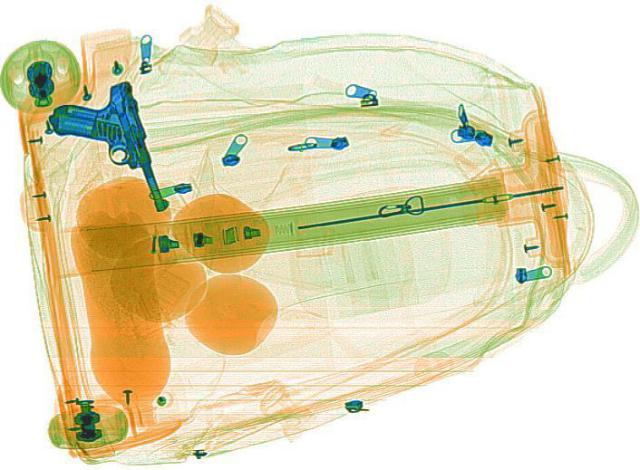Gun: (38, 79, 174, 220)
